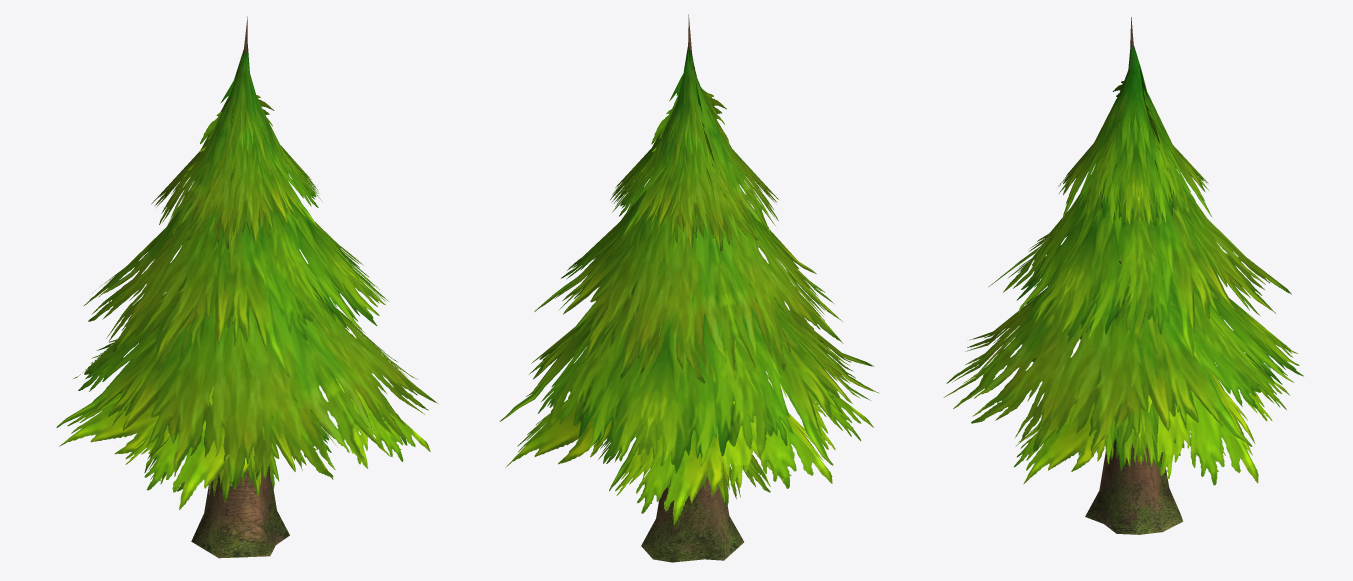
The model's file is Pine_Green_01.FBX.
3 views of the same model, side by side, from view 1: azimuth 30°, elevation 25°; view 2: azimuth 150°, elevation 25°; view 3: azimuth 270°, elevation 25° (orthographic). The views are drawn at different scales.
Visible parts, largest first — view 1: pine_green_01; view 2: pine_green_01; view 3: pine_green_01.
Part boxes in pixels (x1,y1,x2,y2): pine_green_01: [56, 16, 437, 558]; pine_green_01: [499, 14, 879, 562]; pine_green_01: [943, 17, 1303, 534].
Bounding box in the file's own units: 27.66 × 26.16 × 35.7.
Materials: 2 (2 with a texture image).
